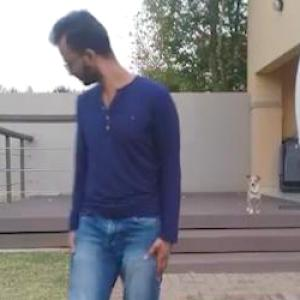follow: (142, 0, 298, 299), (44, 0, 179, 299)
